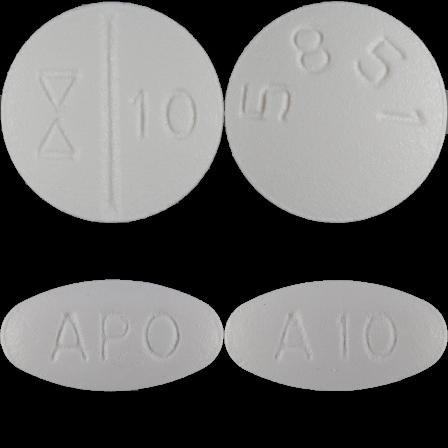33261-954: (0, 0, 224, 224)
